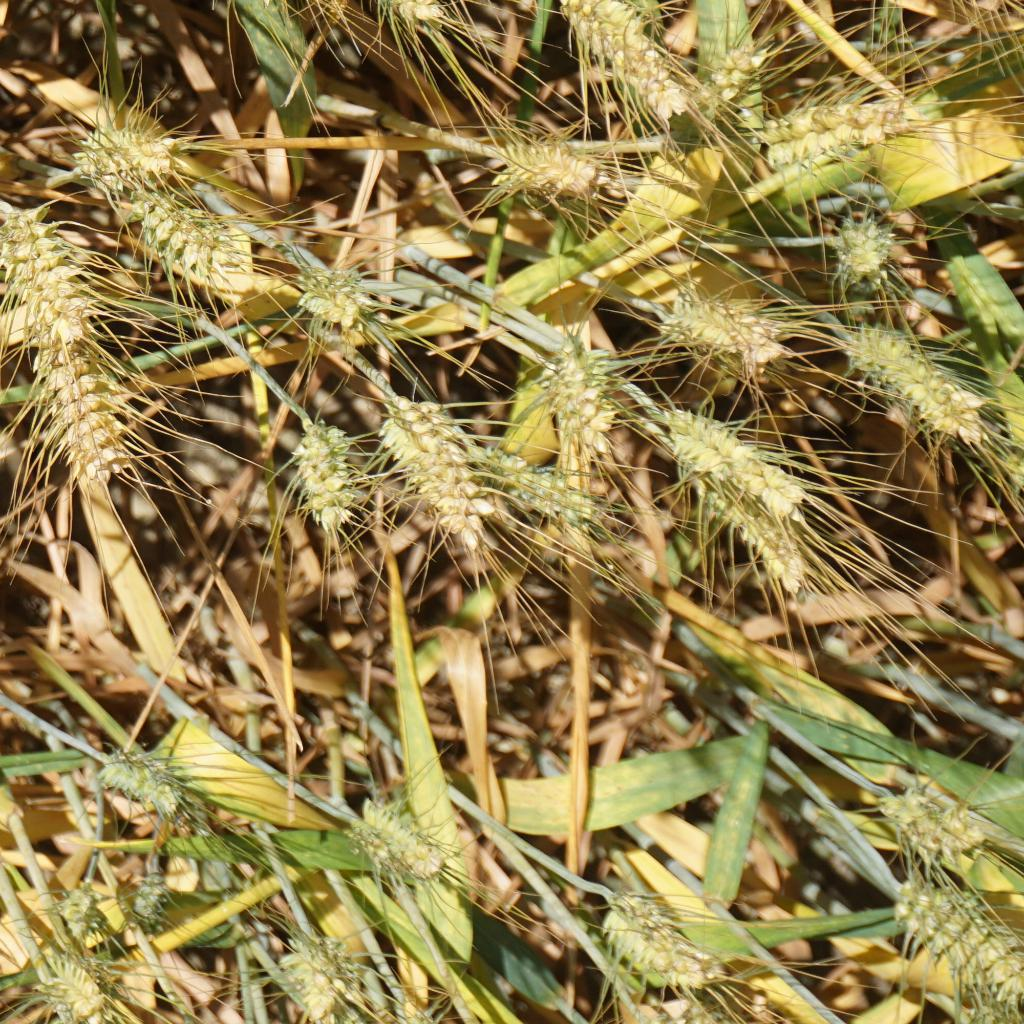0-0: (836, 304, 999, 456), (542, 0, 700, 124), (366, 387, 486, 543), (451, 421, 590, 535), (30, 328, 135, 477), (753, 86, 927, 175), (665, 397, 798, 512), (903, 870, 1024, 994), (599, 879, 726, 995), (0, 204, 97, 345), (137, 195, 262, 302), (700, 468, 805, 594), (484, 118, 599, 215), (662, 283, 775, 373), (346, 793, 453, 886), (96, 743, 207, 831), (540, 331, 622, 448), (873, 781, 978, 865), (273, 927, 374, 1013), (294, 417, 366, 536), (822, 203, 912, 296), (78, 111, 176, 189), (694, 25, 768, 108), (34, 950, 112, 1024), (301, 260, 376, 335), (343, 0, 459, 41), (55, 879, 113, 951), (123, 865, 174, 932)
